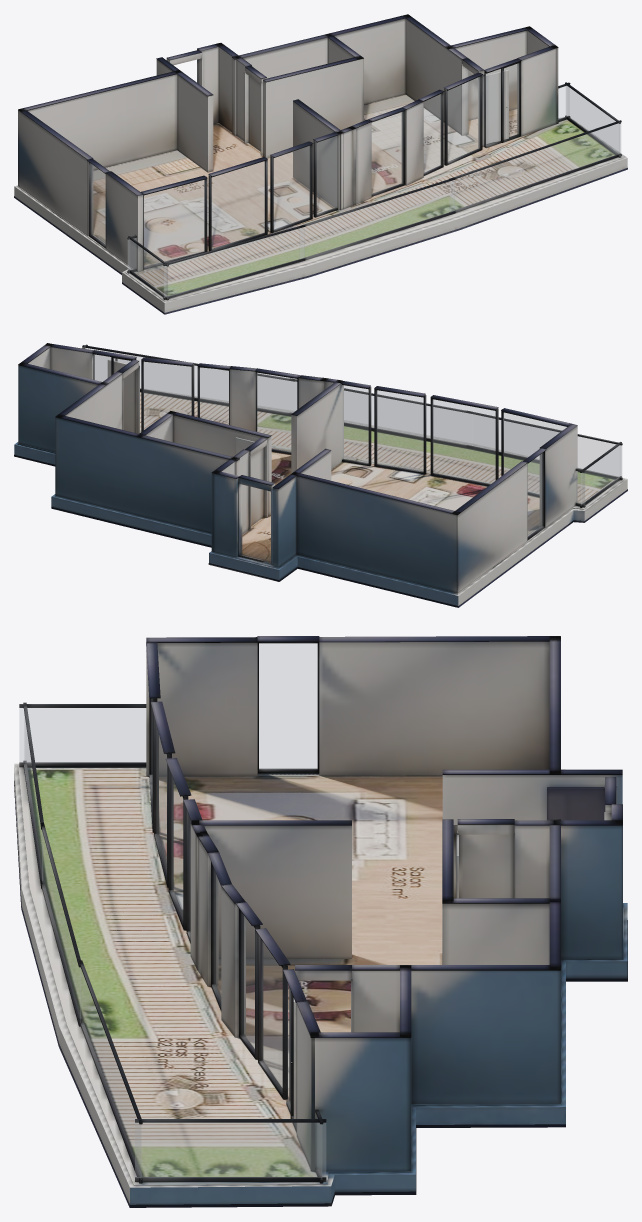
The picture shows the model from 3 angles, top to bottom: view 1: azimuth 30°, elevation 25°; view 2: azimuth 150°, elevation 25°; view 3: azimuth 270°, elevation 25°; orthographic projection. The views are drawn at different scales.
Visible parts, largest first — view 1: plan, railg3_m, railg4_m, railg5_m, glass0_m, glass1_m, glass2_m, glass4_m, glass6_m, glass7_m, railg1_m, glass3_m (+3 smaller); view 2: plan, glass1_m, railg3_m, railg4_m, glass2_m, railg5_m, glass6_m, glass4_m, glass0_m, glass3_m, glass5_m, railg2_m (+2 smaller); view 3: plan, railg1_m, glass8_m, railg2_m, railg3_m, glass6_m, railg4_m, glass5_m, glass2_m, glass1_m, railg5_m, glass4_m.
Part boxes in pixels (x1,y1,x2,y2): plan: [14, 14, 627, 314]; railg3_m: [450, 123, 620, 211]; railg4_m: [300, 180, 454, 258]; railg5_m: [164, 227, 304, 297]; glass0_m: [144, 180, 204, 266]; glass1_m: [212, 161, 264, 248]; glass2_m: [274, 146, 310, 229]; glass4_m: [372, 112, 403, 193]; glass6_m: [448, 77, 479, 161]; glass7_m: [485, 63, 518, 145]; railg1_m: [566, 86, 620, 154]; glass3_m: [317, 136, 336, 214]; plan: [14, 343, 627, 607]; glass1_m: [433, 399, 495, 483]; railg3_m: [85, 348, 294, 412]; railg4_m: [296, 382, 466, 444]; glass2_m: [377, 390, 423, 471]; railg5_m: [472, 414, 621, 477]; glass6_m: [143, 362, 191, 429]; glass4_m: [257, 373, 296, 451]; glass0_m: [503, 413, 566, 494]; glass3_m: [343, 385, 368, 463]; glass5_m: [200, 368, 228, 424]; railg2_m: [581, 445, 620, 504]; plan: [14, 636, 627, 1207]; railg1_m: [135, 1123, 325, 1177]; glass8_m: [259, 643, 317, 769]; railg2_m: [19, 708, 145, 762]; railg3_m: [81, 969, 141, 1179]; glass6_m: [261, 940, 282, 1090]; railg4_m: [42, 832, 80, 1022]; glass5_m: [241, 912, 254, 1051]; glass2_m: [171, 775, 182, 918]; glass1_m: [156, 726, 166, 872]; railg5_m: [24, 716, 42, 882]; glass4_m: [214, 870, 220, 1001].
Size of the model in its own units: 15.36 by 2.62 by 9.38.
Materials: 2 (1 with a texture image).
